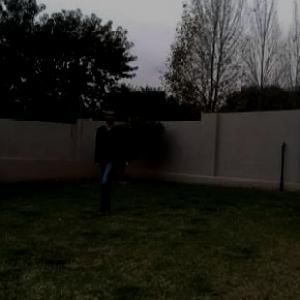follow: (94, 106, 121, 212)
